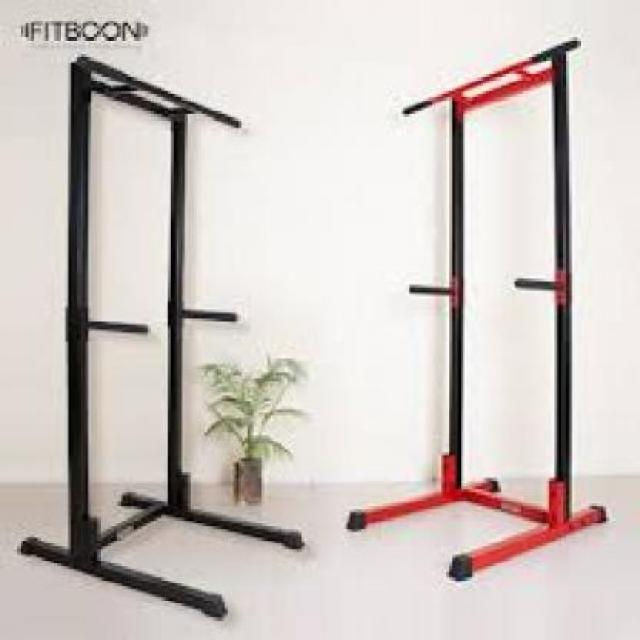chinning dipping: (348, 37, 610, 580), (18, 54, 238, 617)
